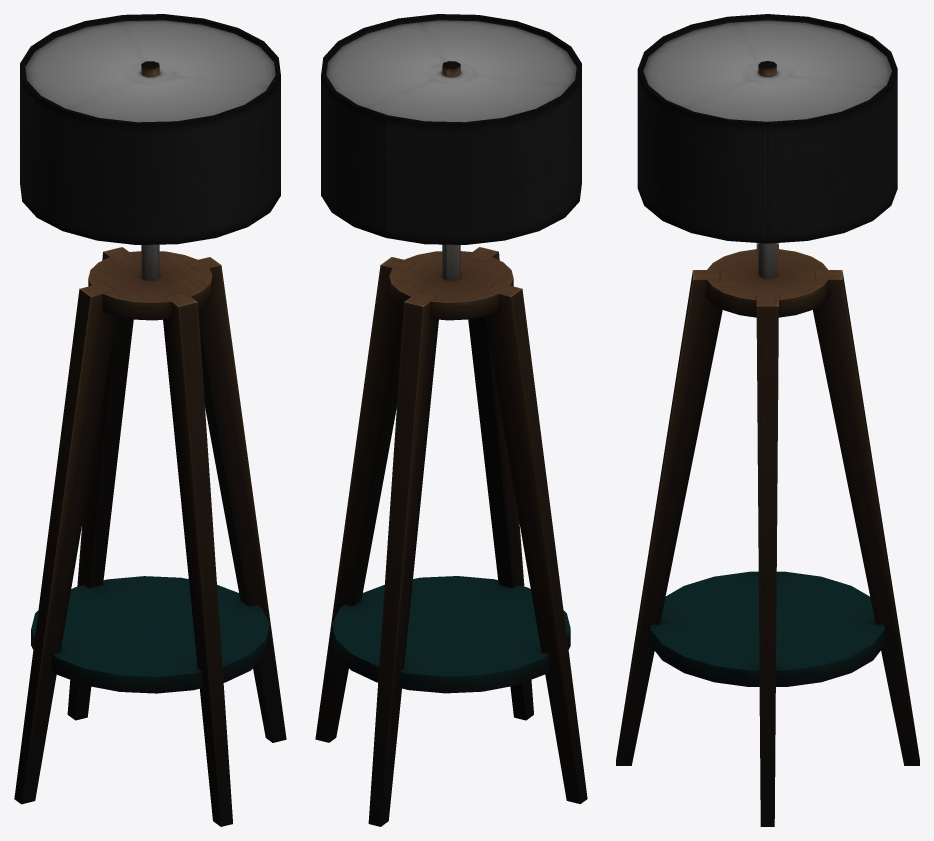
File: tiny_lamp_without_storage.glb
3 views of the same model, side by side, from view 1: azimuth 30°, elevation 25°; view 2: azimuth 150°, elevation 25°; view 3: azimuth 270°, elevation 25° (orthographic).
Parts seen in each view (by area): view 1: Object_42; view 2: Object_42; view 3: Object_42.
Part boxes in pixels (x1,y1,x2,y2): Object_42: (14, 14, 286, 826); Object_42: (315, 14, 587, 826); Object_42: (616, 14, 919, 826).
Bounding box in the file's own units: 1.06 × 2.7 × 1.07.
1 material, 1 textured.
